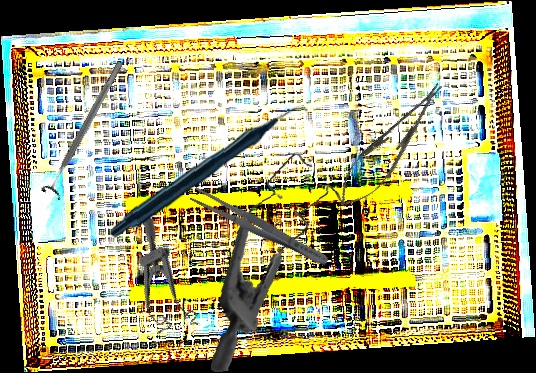Dressing Forceps: (188, 184, 332, 271)
Fixation Ring: (39, 57, 131, 201)
Handpiece: (110, 99, 309, 246)
Needle Holder: (327, 72, 456, 219)
Speculum: (189, 149, 360, 373), (106, 216, 209, 344)
